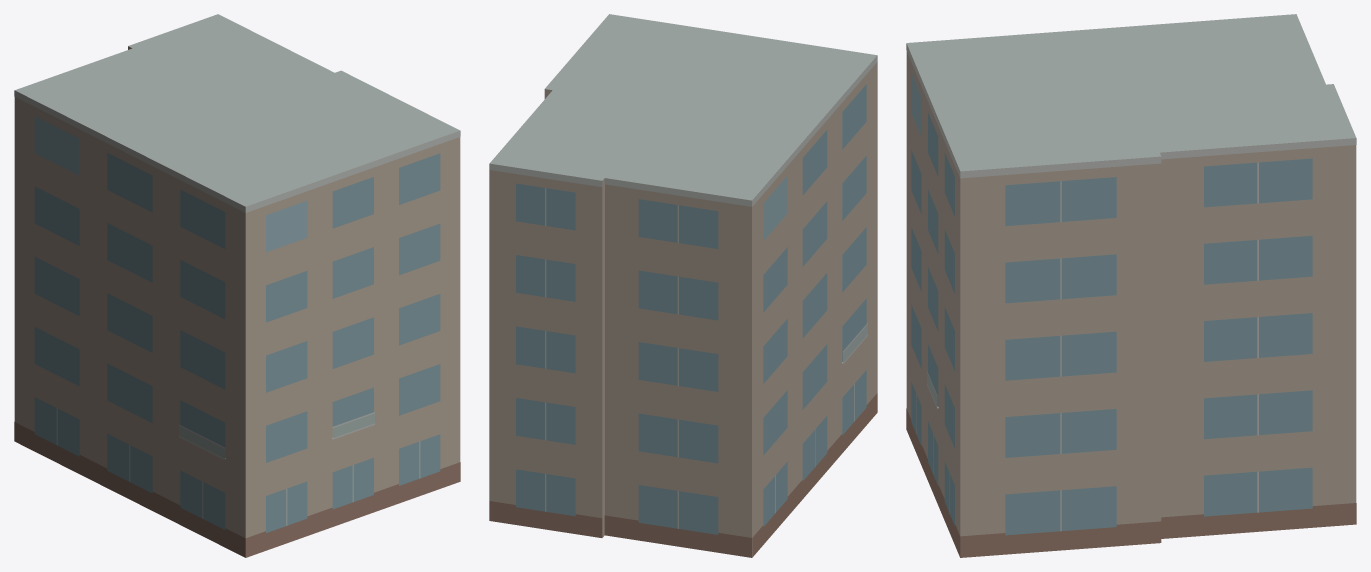
File: survey-upis-32618752.glb
3 renders of one model, left to right at view 1: azimuth 30°, elevation 25°; view 2: azimuth 150°, elevation 25°; view 3: azimuth 270°, elevation 25°, orthographic. The views are drawn at different scales.
Visible parts, largest first — view 1: survey-upis-32618752.tmp; view 2: survey-upis-32618752.tmp; view 3: survey-upis-32618752.tmp.
Boxes of the visible parts, box(x1,y1,x2,y2) form: survey-upis-32618752.tmp: box(14, 14, 460, 557); survey-upis-32618752.tmp: box(489, 14, 877, 557); survey-upis-32618752.tmp: box(906, 14, 1356, 557).
Size of the model in its own units: 11.98 by 13.7 by 14.47.
